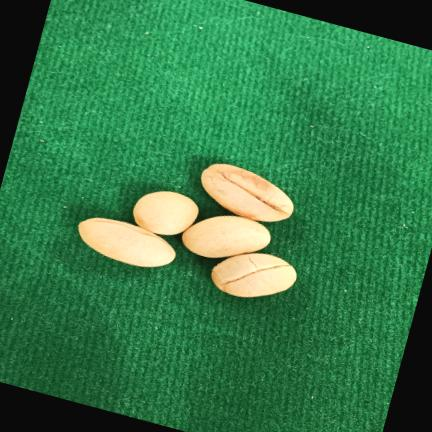parchment: (200, 164, 293, 221), (78, 218, 175, 267), (211, 253, 296, 297), (181, 215, 270, 257), (133, 191, 198, 235)
